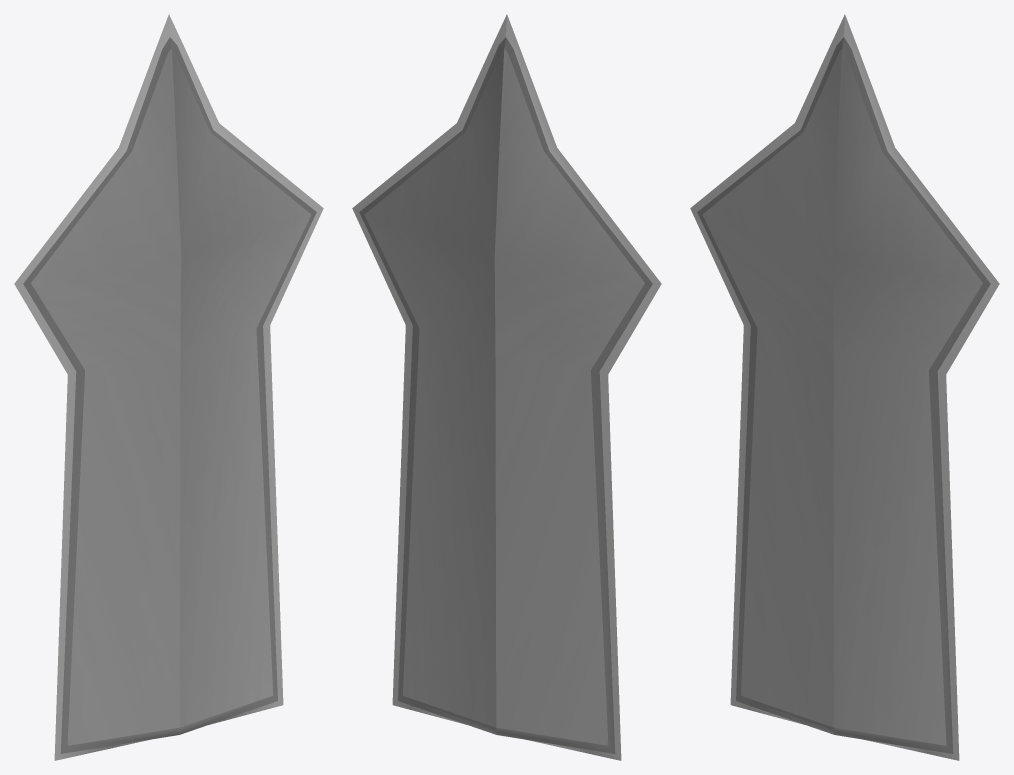
File: stone_blade (7).glb
The picture shows the model from 3 angles, left to right: view 1: azimuth 30°, elevation 25°; view 2: azimuth 150°, elevation 25°; view 3: azimuth 330°, elevation 25°; orthographic projection.
Parts seen in each view (by area): view 1: stone_blade_unscratched.027; view 2: stone_blade_unscratched.027; view 3: stone_blade_unscratched.027.
Part boxes in pixels (box(x1,y1,x2,y2)): stone_blade_unscratched.027: box(14, 14, 323, 760); stone_blade_unscratched.027: box(352, 14, 661, 760); stone_blade_unscratched.027: box(690, 14, 999, 760).
Size of the model in its own units: 5.28 by 11.76 by 0.7262.
Materials: 1 (1 with a texture image).
